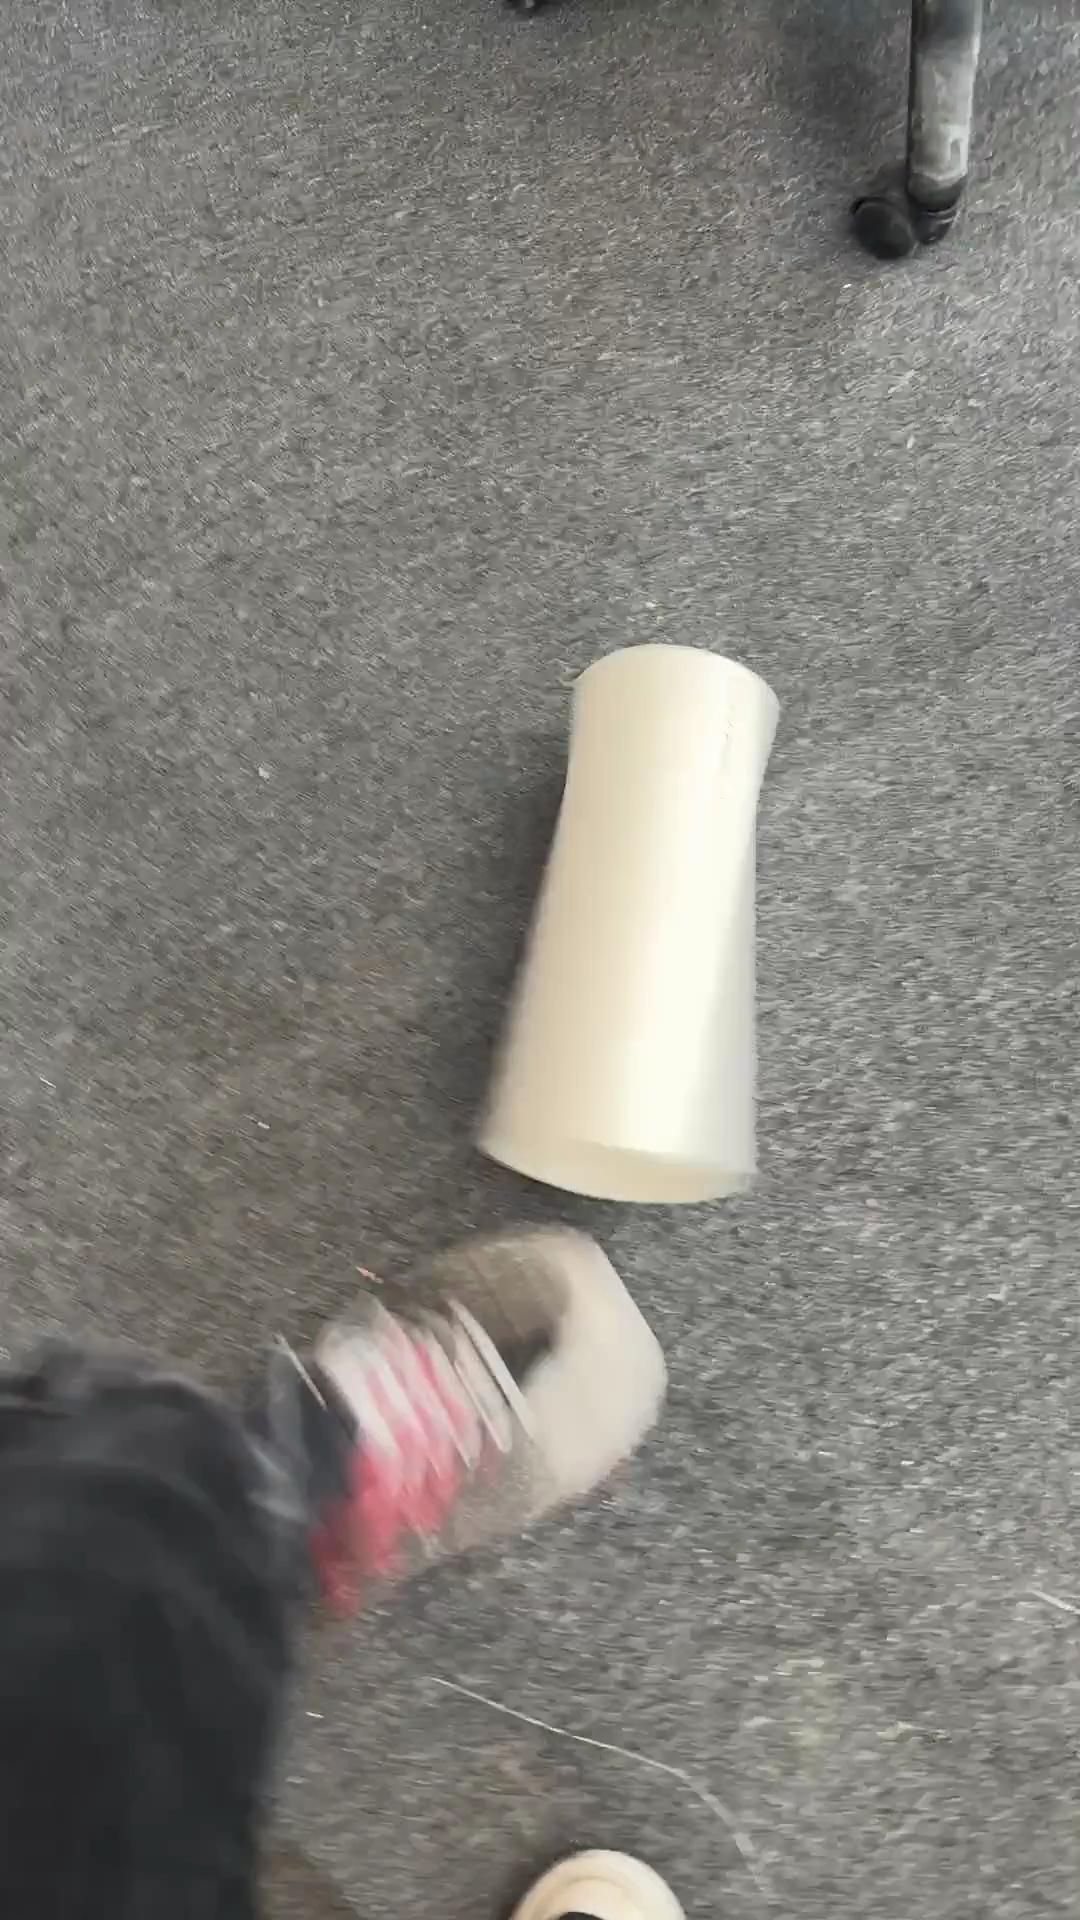CORAL: (469, 640, 781, 1205)
